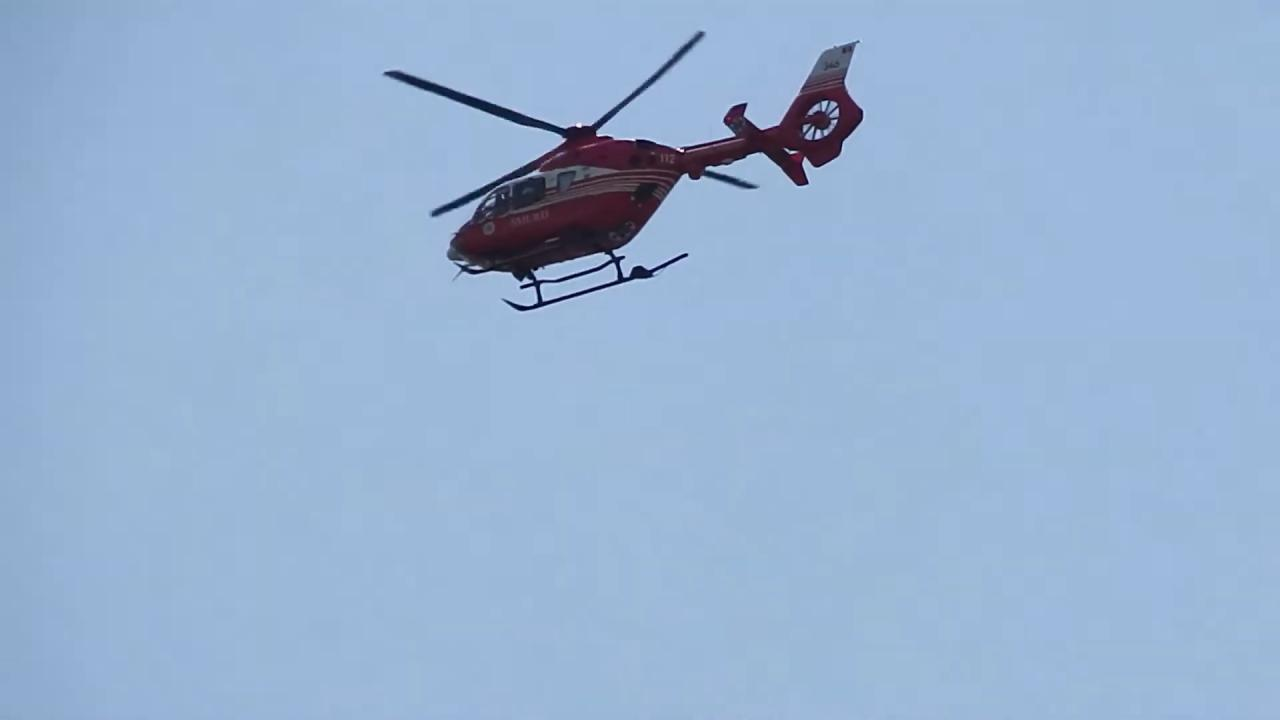Helicopter: (368, 16, 880, 320)
